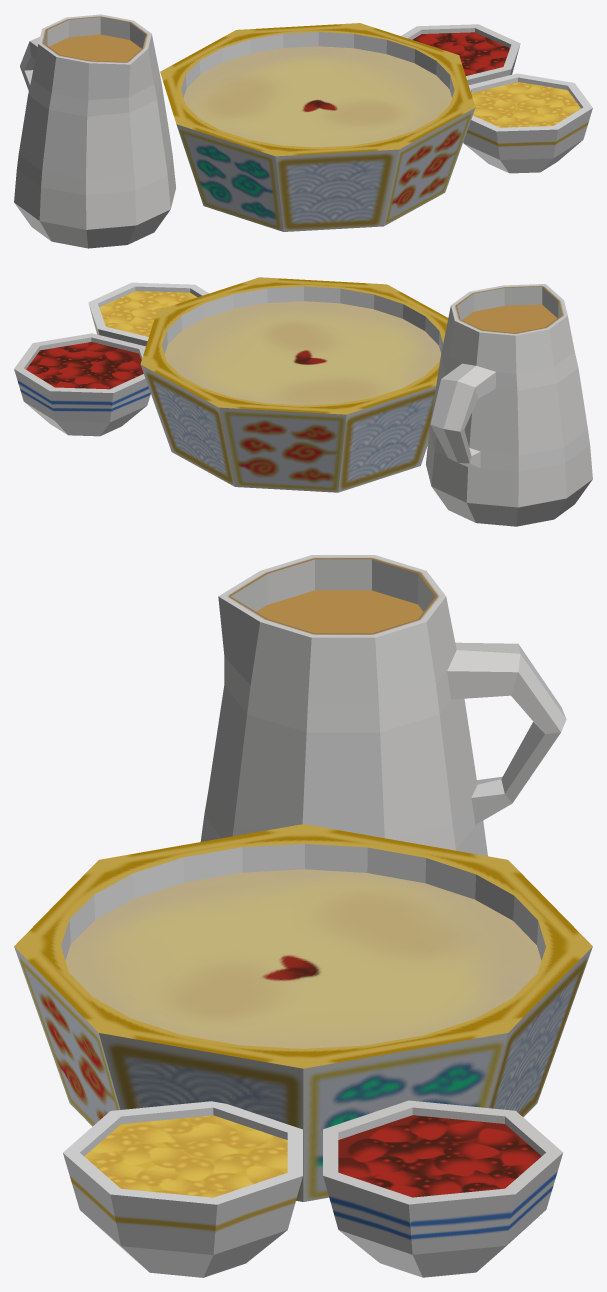
The model's file is Bird Nest Soup.fbx.
3 renders of one model, top to bottom at view 1: azimuth 30°, elevation 25°; view 2: azimuth 150°, elevation 25°; view 3: azimuth 270°, elevation 25°, orthographic. The views are drawn at different scales.
Parts seen in each view (by area): view 1: Cylinder.001, Cylinder.002, Sphere.001, Sphere; view 2: Cylinder.001, Cylinder.002, Sphere, Sphere.001; view 3: Cylinder.001, Cylinder.002, Sphere, Sphere.001.
Part boxes in pixels (x1=…): Cylinder.001: x1=160, y1=23, x2=475, y2=231; Cylinder.002: x1=14, y1=14, x2=175, y2=248; Sphere.001: x1=463, y1=73, x2=592, y2=173; Sphere: x1=401, y1=24, x2=520, y2=84; Cylinder.001: x1=140, y1=277, x2=448, y2=492; Cylinder.002: x1=426, y1=284, x2=592, y2=526; Sphere: x1=14, y1=333, x2=150, y2=436; Sphere.001: x1=88, y1=282, x2=208, y2=346; Cylinder.001: x1=14, y1=824, x2=592, y2=1201; Cylinder.002: x1=200, y1=555, x2=566, y2=856; Sphere: x1=323, y1=1100, x2=563, y2=1277; Sphere.001: x1=63, y1=1101, x2=302, y2=1277.
Size of the model in its own units: 362 by 123 by 200.
4 materials, 4 textured.
